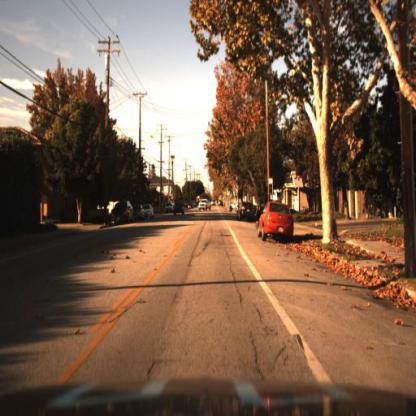car: (258, 201, 296, 250), (258, 199, 297, 245), (110, 196, 135, 230), (112, 199, 133, 225), (237, 199, 258, 225), (195, 193, 212, 216), (169, 199, 187, 217), (133, 201, 144, 224), (144, 202, 155, 223), (164, 202, 174, 214), (210, 197, 218, 209), (218, 199, 226, 211)
